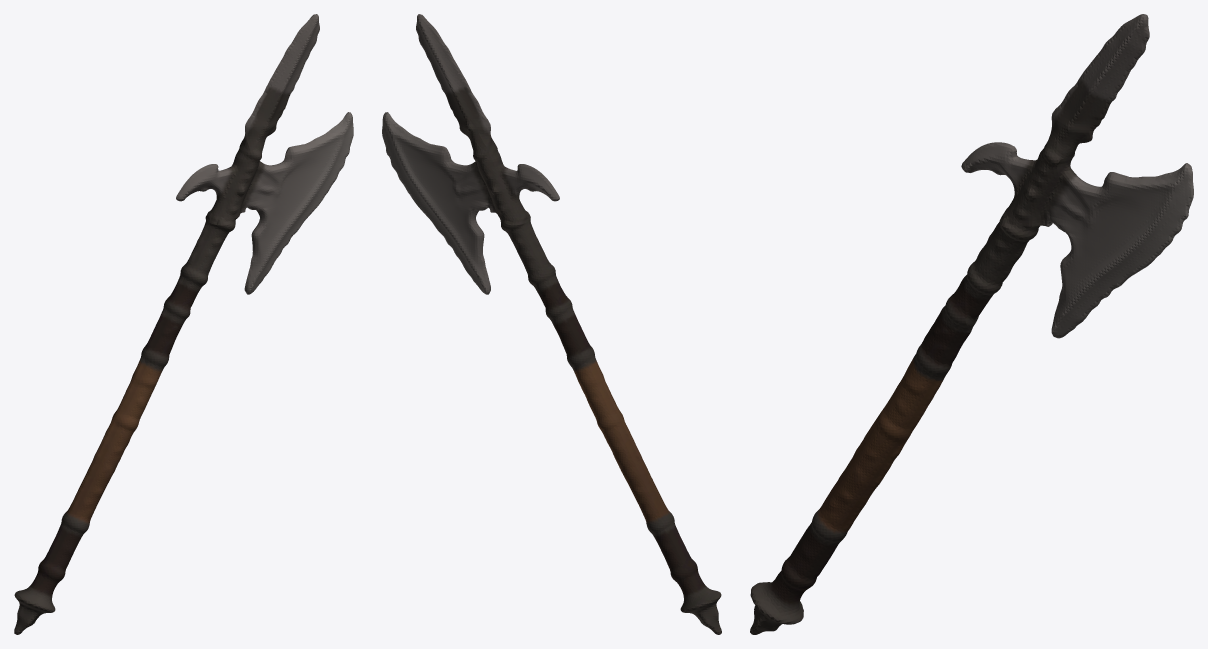
File: alabarda.glb
3 views of the same model, side by side, from view 1: azimuth 30°, elevation 25°; view 2: azimuth 150°, elevation 25°; view 3: azimuth 330°, elevation 25° (orthographic). The views are drawn at different scales.
Visible parts, largest first — view 1: tmpa6nk9i63.ply; view 2: tmpa6nk9i63.ply; view 3: tmpa6nk9i63.ply.
Boxes of the visible parts, x1=… form: tmpa6nk9i63.ply: x1=14, y1=14, x2=353, y2=634; tmpa6nk9i63.ply: x1=382, y1=14, x2=721, y2=634; tmpa6nk9i63.ply: x1=750, y1=14, x2=1193, y2=634.
Bounding box in the file's own units: 1.27 × 1.96 × 0.1359.
